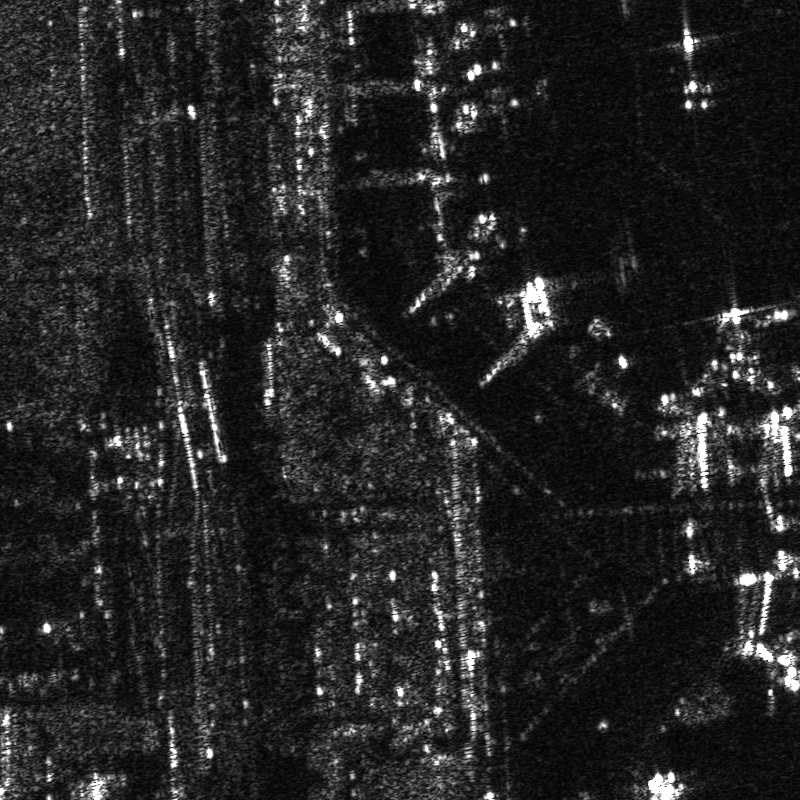A220: (460, 73, 562, 143), (704, 296, 776, 395)
Boeing737: (666, 25, 734, 117)
